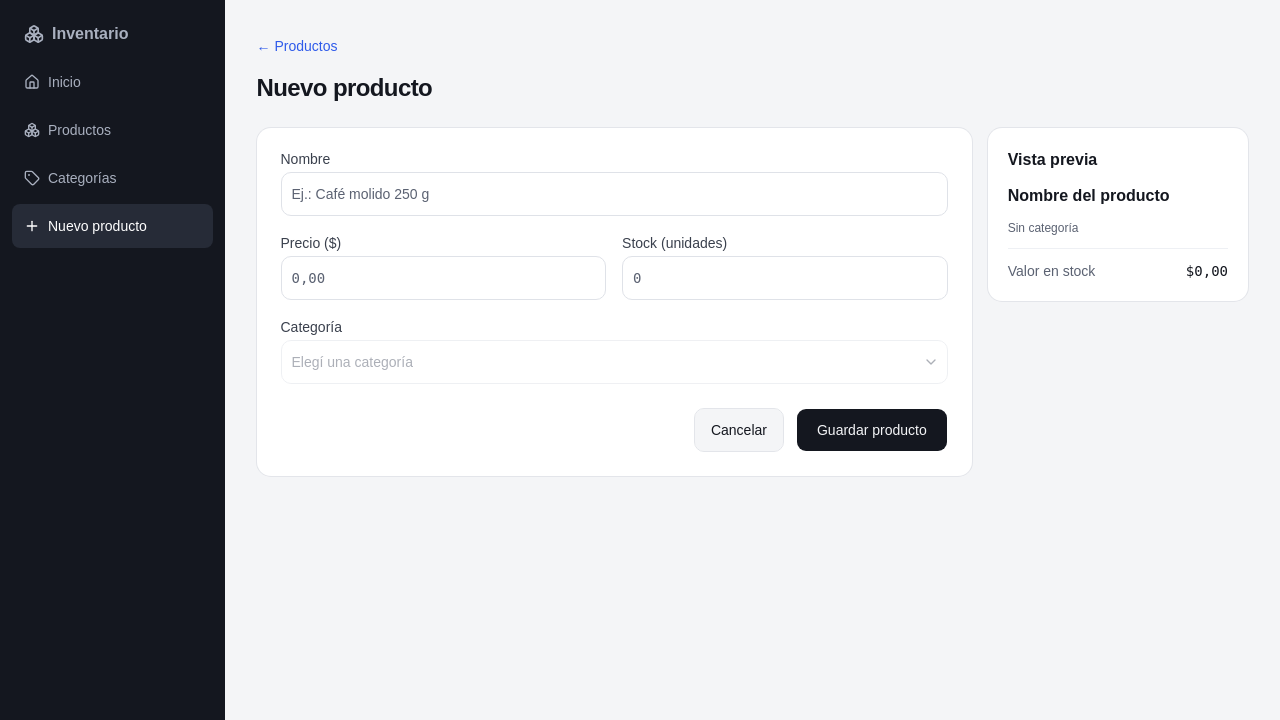
Test: NewProductPage › CA6: la vista previa tiene placeholders y refleja lo escrito
The width and height of the screenshot is (1280, 720).
Expected: the element "Vista previa" shows "Nombre del producto", [1008,187,1170,204]
Expected: the element "Vista previa" shows "Sin categoría", [1008,221,1078,235]
In the field labelled "Nombre": (614, 194) [280,172,948,216], type "Mouse"
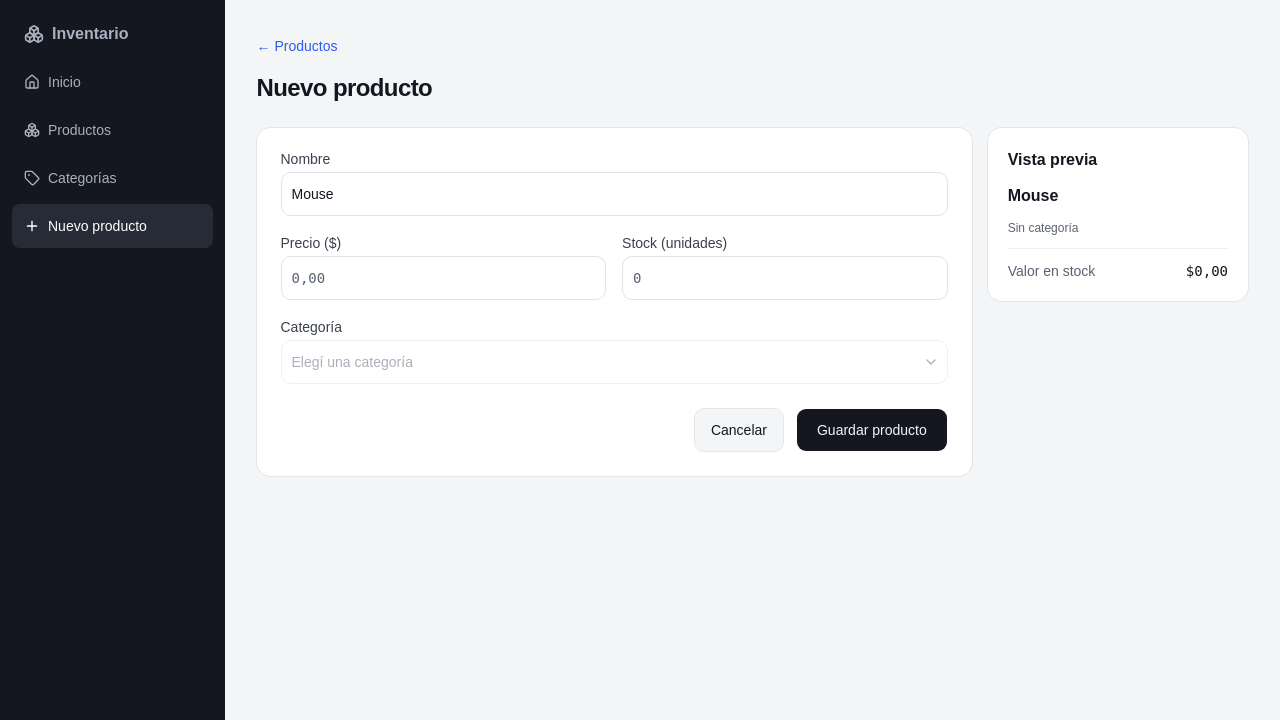
In the number field labelled "Precio ($)": (443, 278) [280,256,606,300], type "2.5"
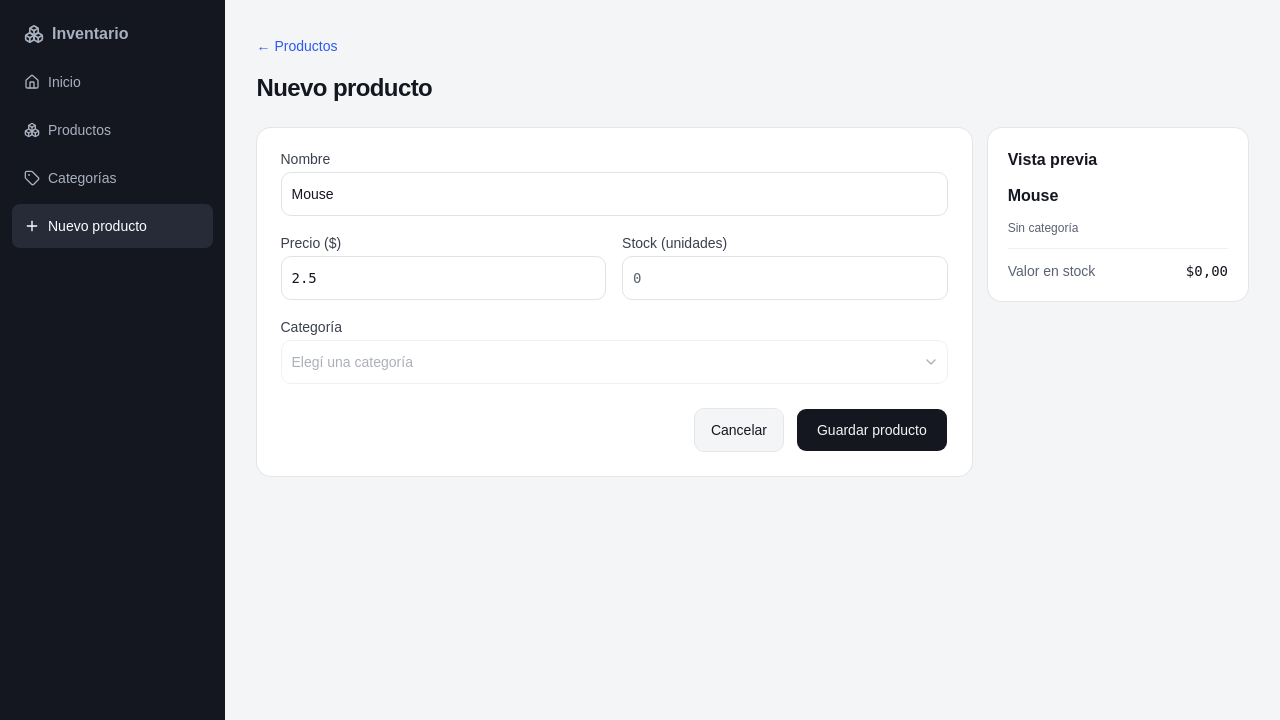
In the number field labelled "Stock (unidades)": (785, 278) [622,256,948,300], type "5"
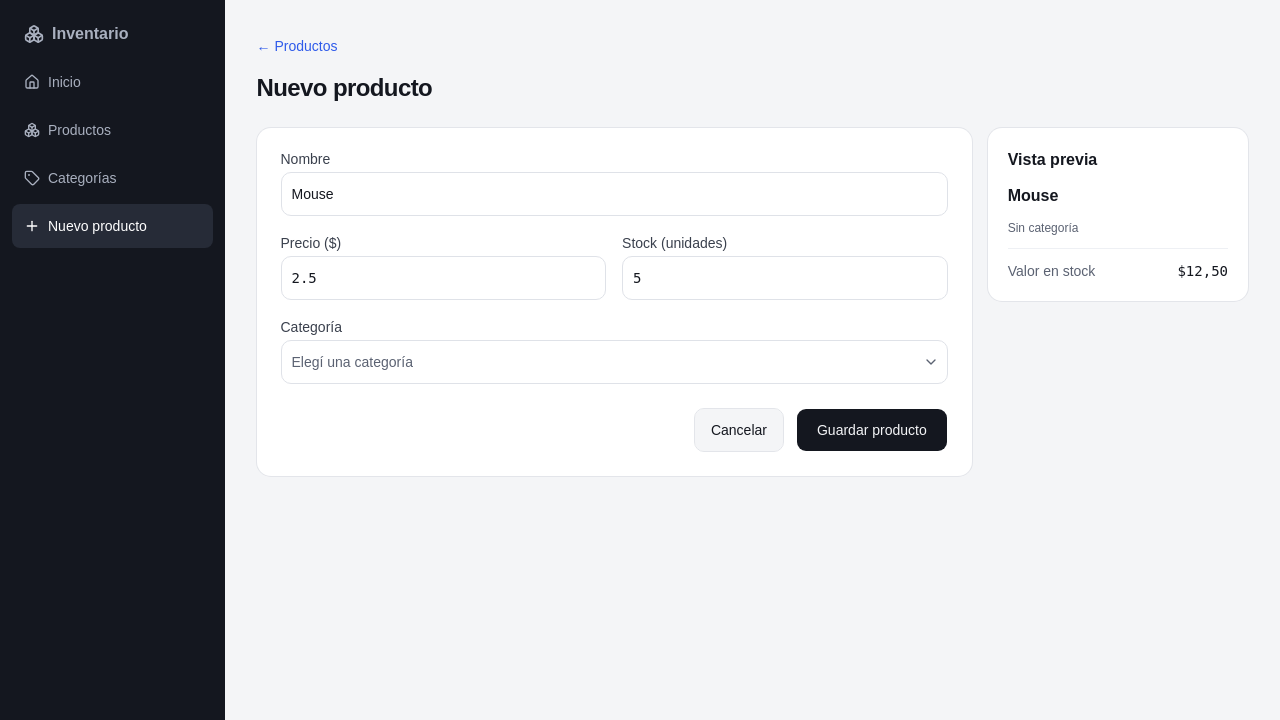
Expected: the dropdown labelled "categoría" is enabled
Press Enter in the dropdown labelled "categoría", box [280,340,948,384]
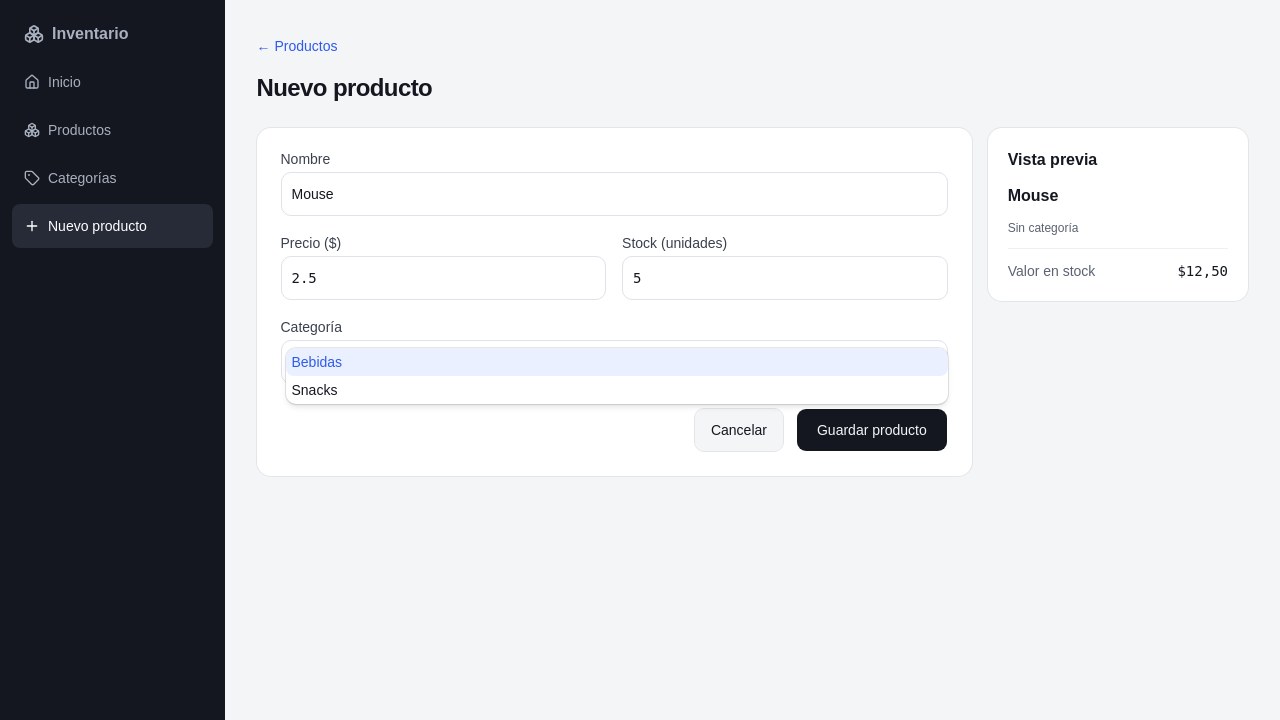
Click the option "Snacks": (314, 390) [292,382,337,398]
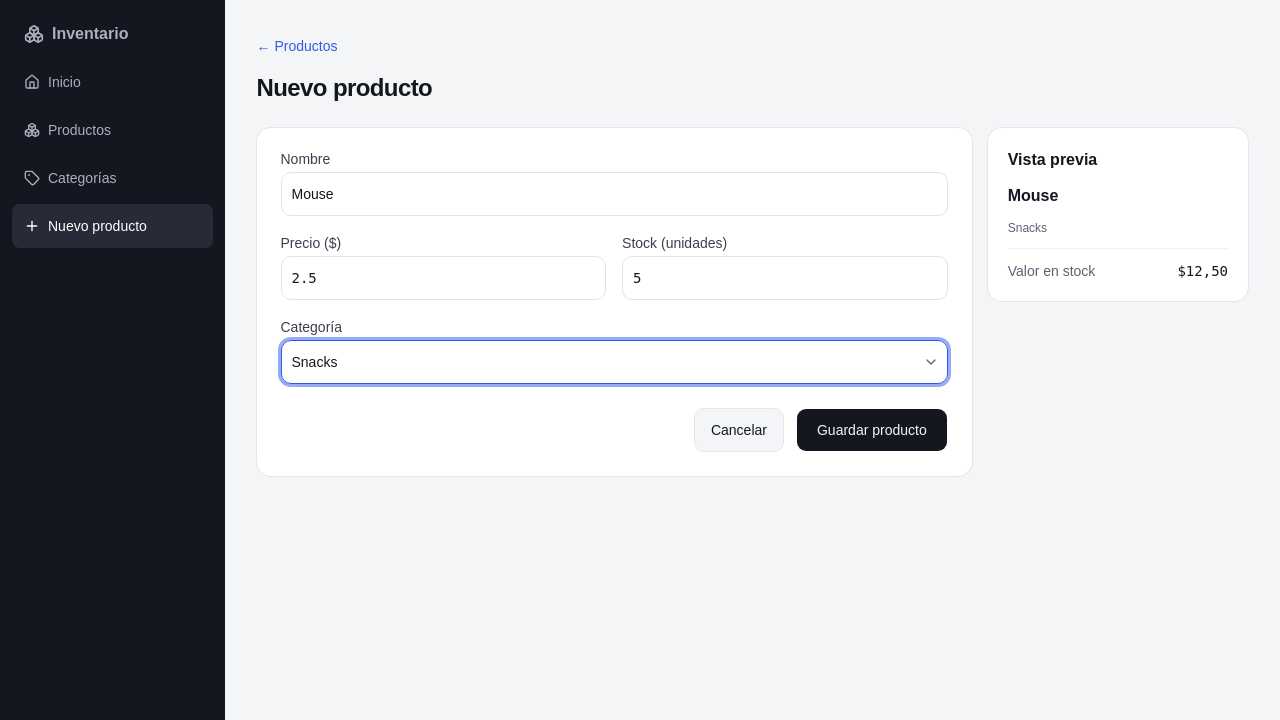
Expected: the element "Vista previa" shows "Mouse", [1008,187,1058,204]
Expected: the element "Vista previa" shows "$12,50", [1177,263,1228,279]
Expected: the element "Vista previa" shows "Snacks", [1008,221,1047,235]
